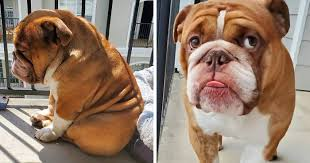Bulldog: (163, 1, 306, 162), (6, 5, 152, 159)
